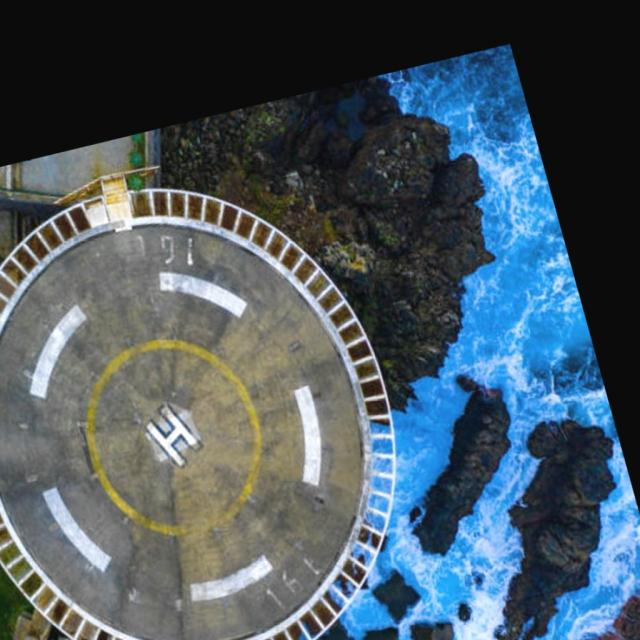helipad: (76, 332, 265, 539)
